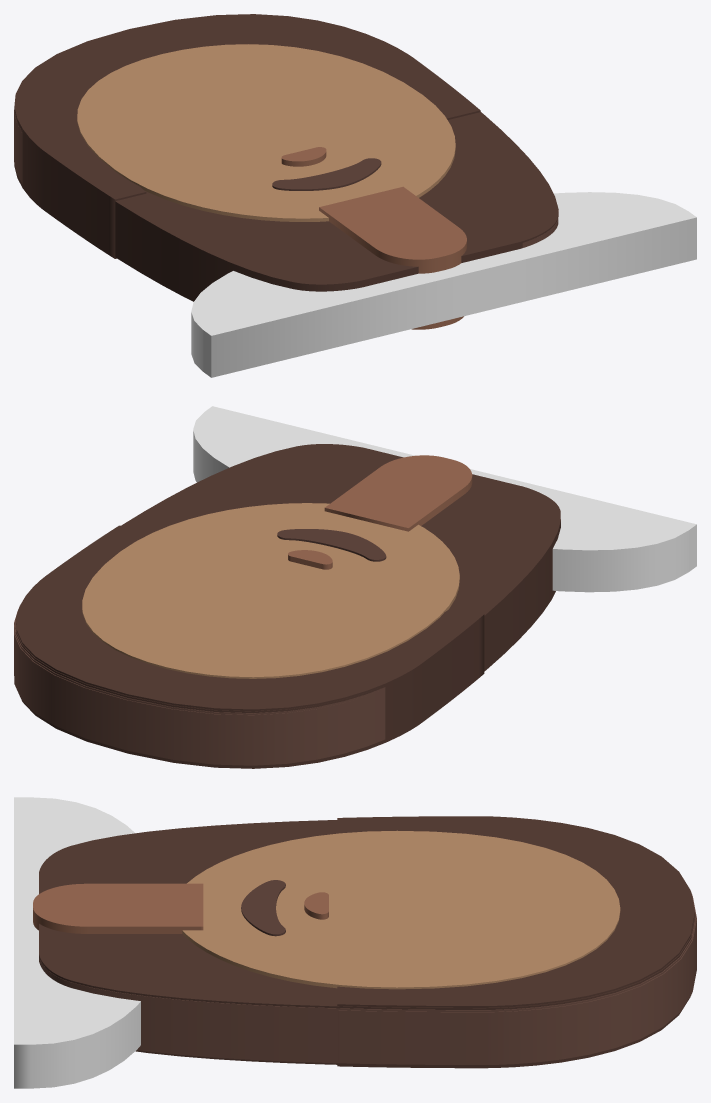
The model's file is emoji_u1f469_1f3fd_200d_2695.glb.
The picture shows the model from 3 angles, top to bottom: view 1: azimuth 30°, elevation 25°; view 2: azimuth 150°, elevation 25°; view 3: azimuth 270°, elevation 25°; orthographic projection. The views are drawn at different scales.
Parts seen in each view (by area): view 1: emoji_u1f469_1f3fd_200d_2695; view 2: emoji_u1f469_1f3fd_200d_2695; view 3: emoji_u1f469_1f3fd_200d_2695.
Part boxes in pixels (x1,y1,x2,y2): emoji_u1f469_1f3fd_200d_2695: (14, 14, 696, 377); emoji_u1f469_1f3fd_200d_2695: (14, 406, 696, 768); emoji_u1f469_1f3fd_200d_2695: (14, 797, 696, 1088).
Bounding box in the file's own units: 0.029 × 0.0042 × 0.0339.
